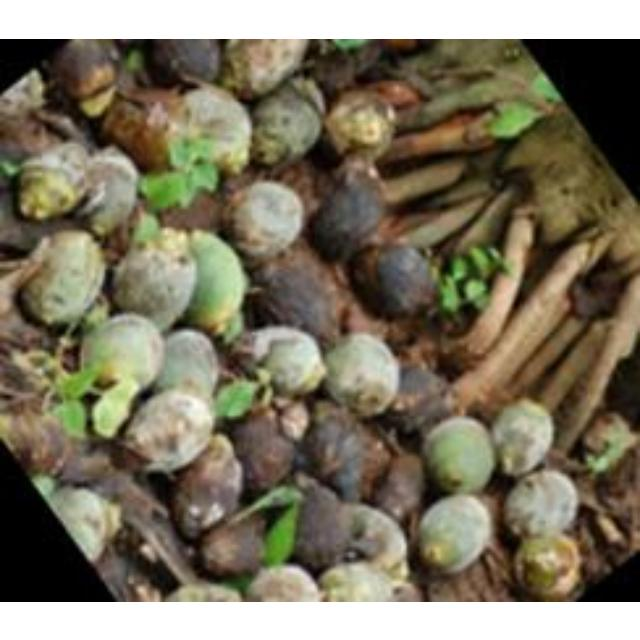damaged: (111, 230, 200, 330), (248, 254, 342, 346), (19, 230, 105, 328), (170, 436, 246, 538), (124, 388, 216, 472), (310, 163, 386, 261), (99, 90, 187, 172), (179, 230, 247, 336), (248, 76, 326, 166), (298, 408, 372, 499), (82, 313, 166, 393), (322, 332, 401, 416), (175, 86, 252, 172), (353, 242, 437, 320), (415, 493, 493, 575), (225, 180, 303, 260), (76, 146, 142, 238), (230, 409, 298, 496), (218, 38, 312, 100), (290, 482, 356, 570), (320, 86, 396, 162), (16, 142, 90, 220), (246, 325, 324, 399), (423, 416, 497, 494), (48, 38, 120, 116), (1, 188, 78, 256), (48, 484, 114, 562), (153, 328, 220, 404), (381, 362, 452, 433), (504, 469, 576, 538), (0, 326, 60, 408), (491, 399, 554, 477), (2, 408, 72, 478), (342, 504, 408, 576), (512, 532, 580, 600), (198, 513, 268, 579), (110, 476, 182, 538), (568, 256, 632, 324), (308, 40, 387, 94), (370, 451, 426, 522), (144, 38, 222, 88), (589, 454, 639, 532), (576, 412, 636, 476), (0, 104, 68, 158), (262, 160, 322, 220), (318, 560, 398, 602), (471, 96, 547, 140), (158, 187, 226, 233), (52, 442, 120, 486), (246, 562, 320, 602), (575, 521, 619, 583), (1, 68, 45, 118), (108, 438, 150, 472), (278, 400, 312, 440)
